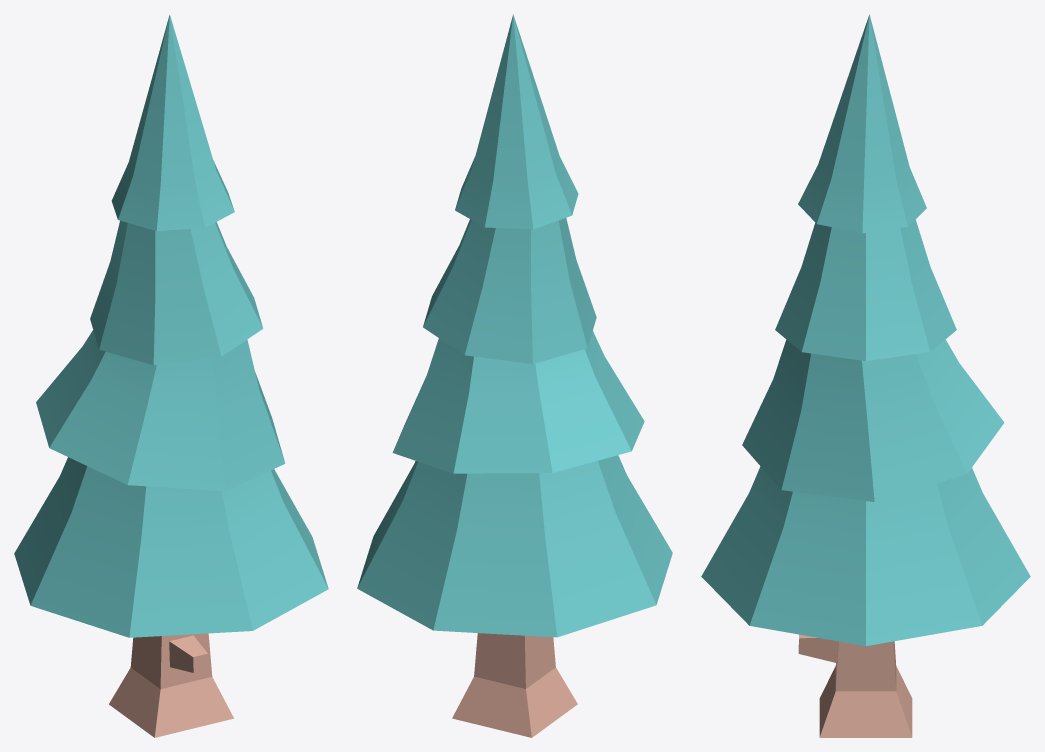
The model's file is tree_pineRoundF.gltf.
3 renders of one model, left to right at view 1: azimuth 30°, elevation 25°; view 2: azimuth 150°, elevation 25°; view 3: azimuth 270°, elevation 25°, orthographic.
Visible parts, largest first — view 1: tree_pineRoundF; view 2: tree_pineRoundF; view 3: tree_pineRoundF.
Boxes of the visible parts, bbox=[...] form: tree_pineRoundF: bbox=[14, 14, 328, 737]; tree_pineRoundF: bbox=[357, 14, 672, 737]; tree_pineRoundF: bbox=[701, 14, 1030, 737].
Size of the model in its own units: 0.532 by 1.25 by 0.532.
